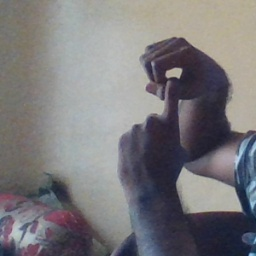Q: (116, 32, 217, 179)
